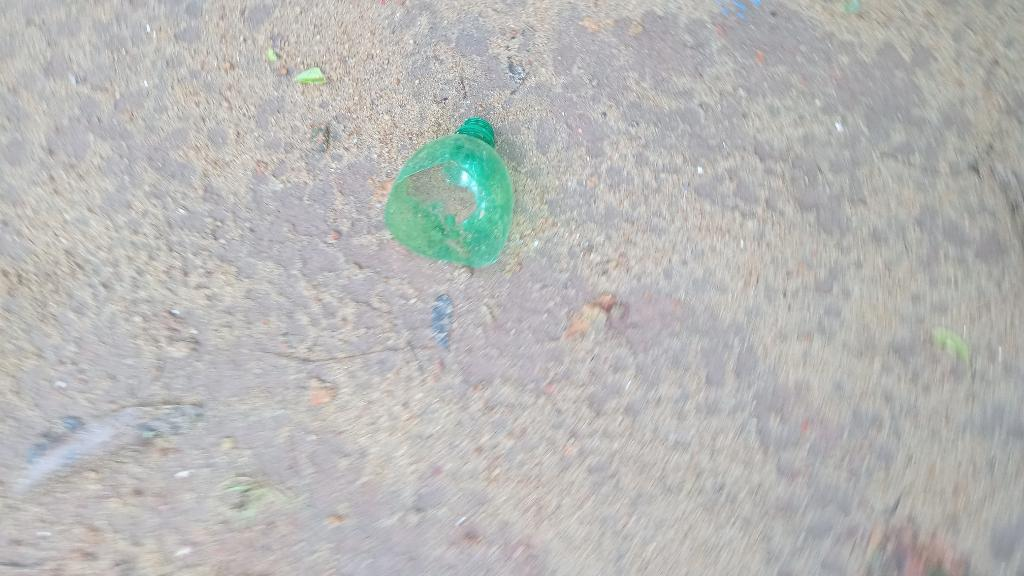garbage: (349, 90, 563, 280)
